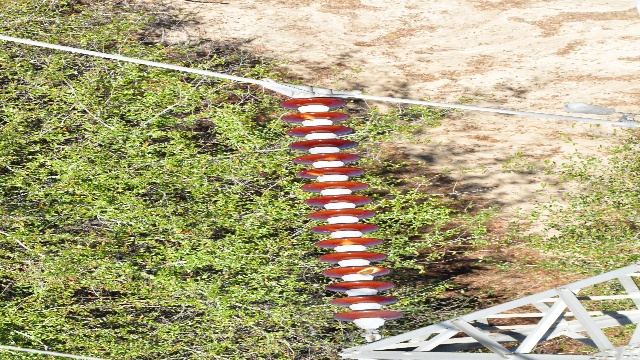insulator_unspecified: (281, 96, 403, 320)
pollution_flashover_local: (360, 267, 382, 275), (297, 114, 316, 121), (307, 171, 322, 178), (324, 155, 339, 161), (343, 240, 354, 246)
